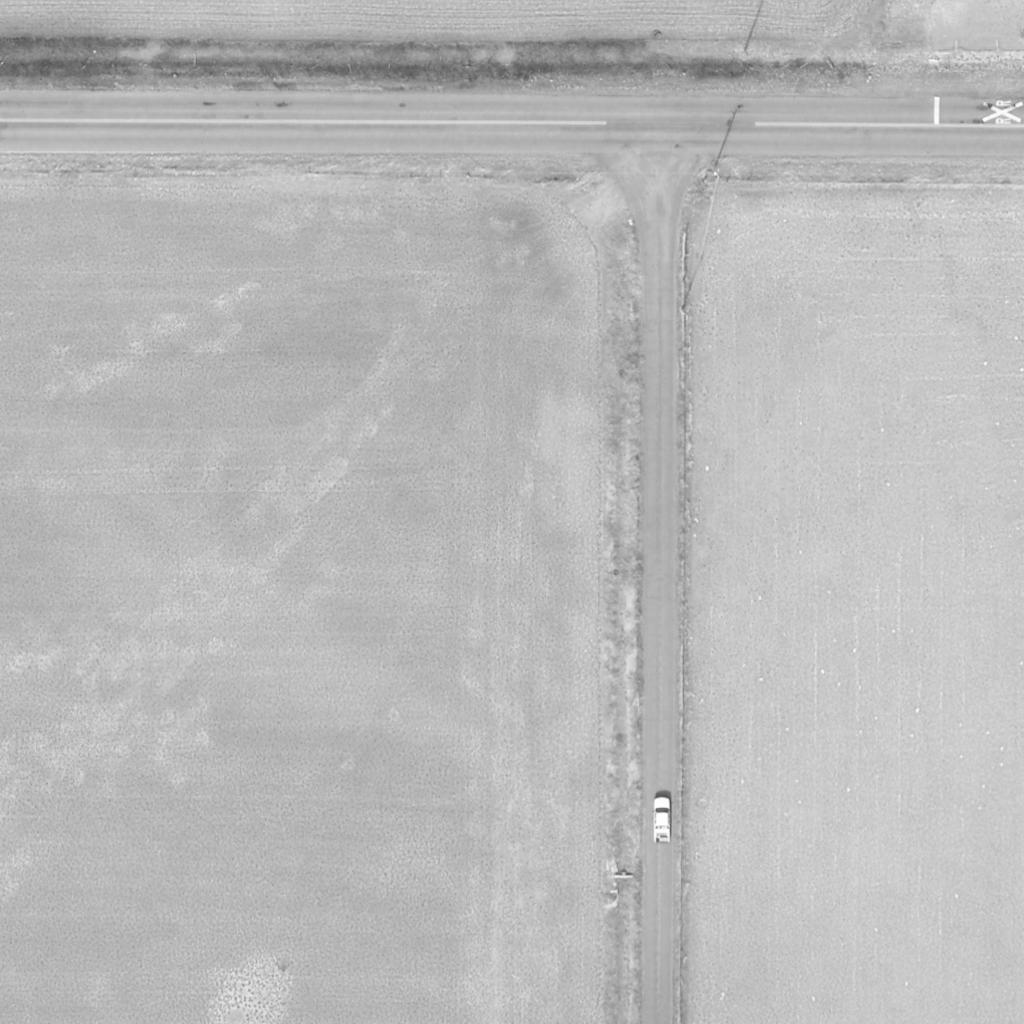vehicle: (653, 797, 671, 843)
